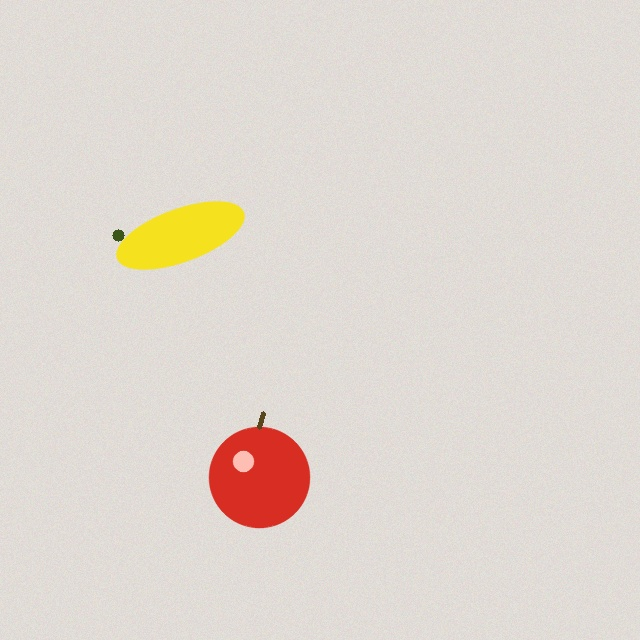Fresh apple: (209, 413, 309, 527)
Fresh banana: (110, 203, 250, 267)
